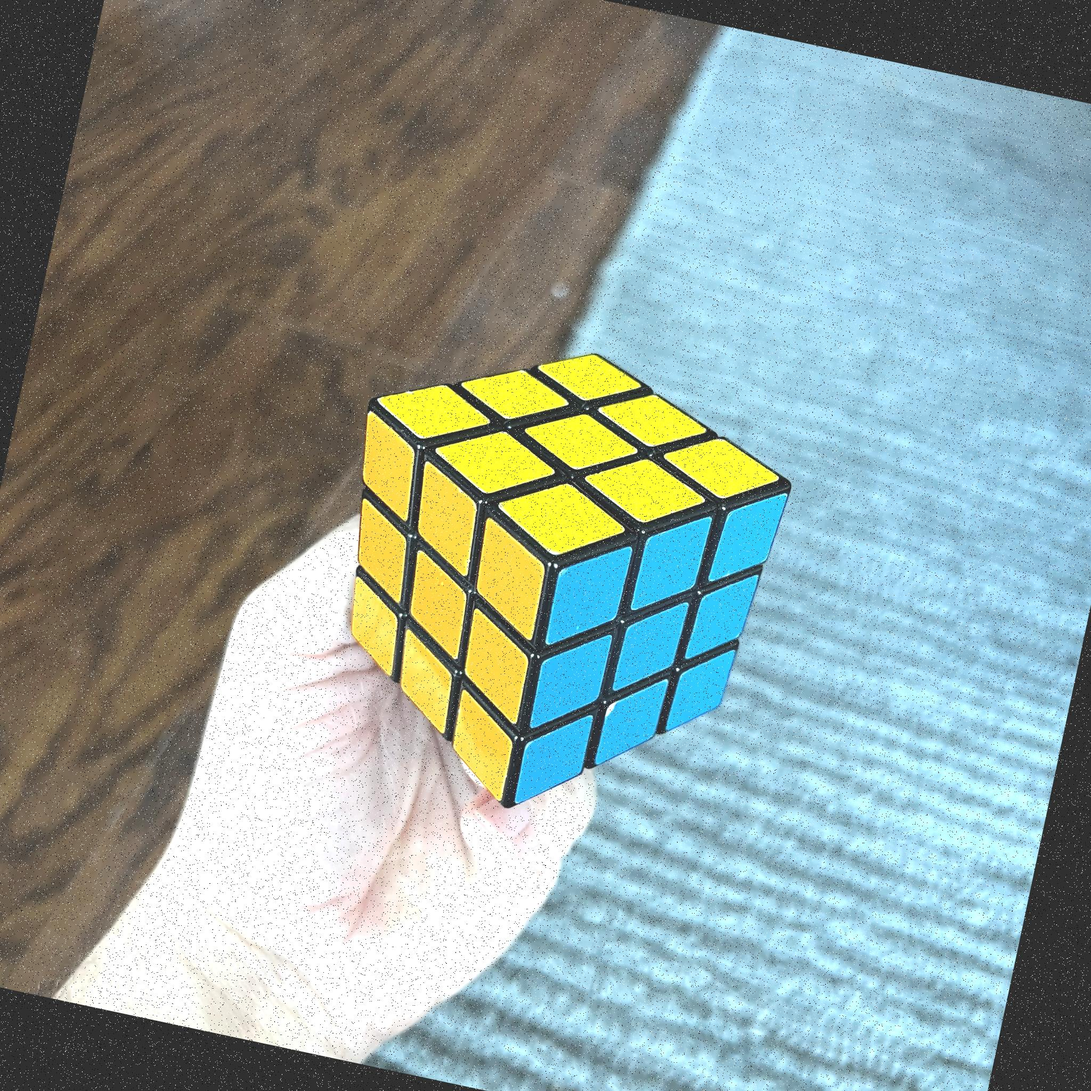rubiks_cube: (351, 354, 787, 803)
